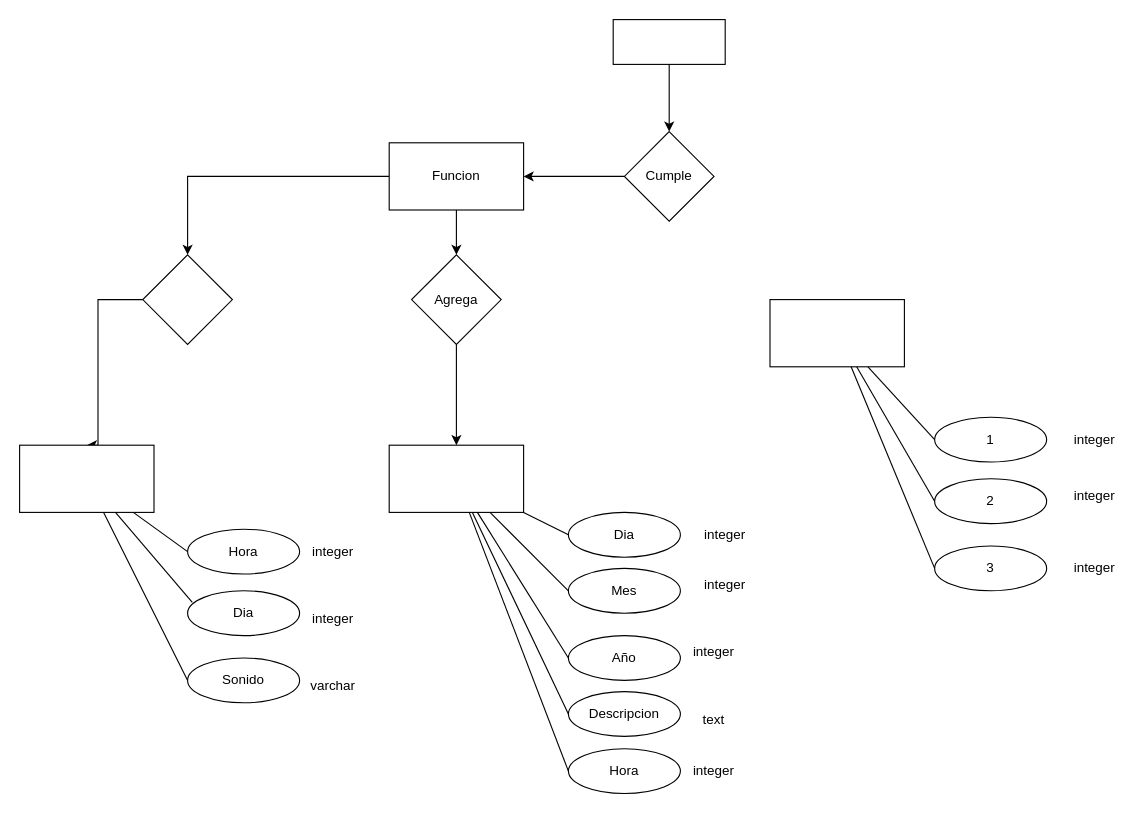
The diagram is 1148 pixels wide and 813 high, and some of its shapes have lost their labels. The shapes that lost their labels are listed below. From the top down, each one's centre as x and y in pixels, then its label:
At point 668,41: "Asistente Virtual".
At point 187,299: "Añade".
At point 836,332: "Jiegos".
At point 86,478: "Alarma".
At point 456,478: "Recordatorio".
